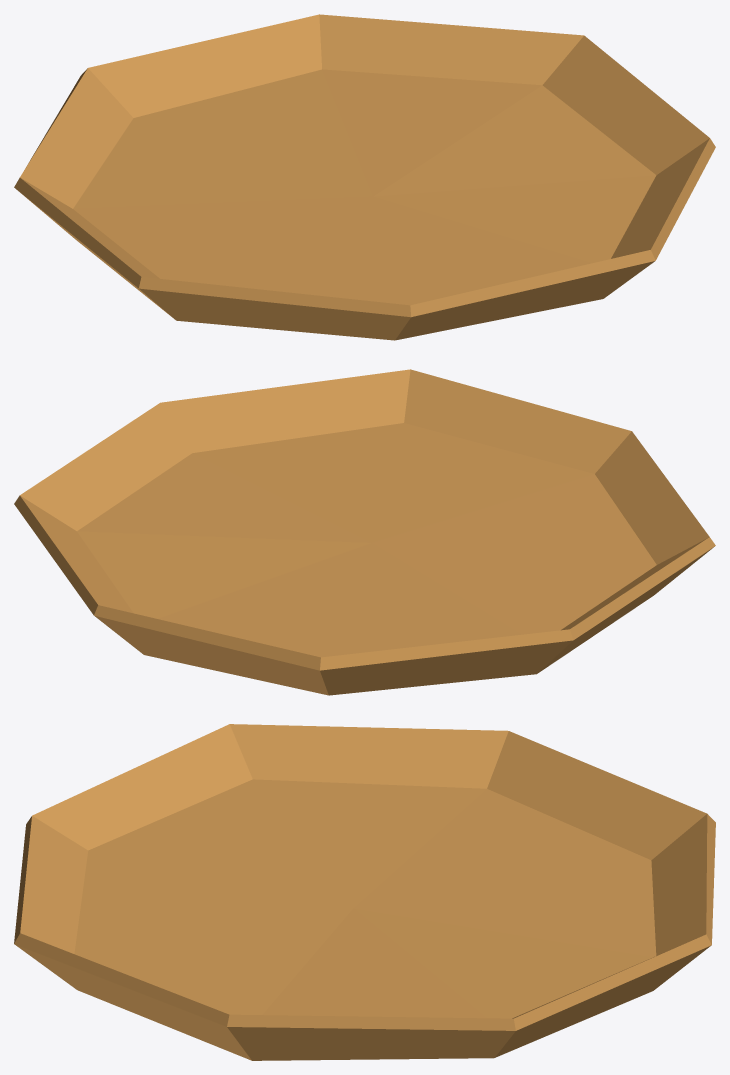
The model's file is SM_Prop_Gold_Plate_04.glb.
3 renders of one model, top to bottom at view 1: azimuth 30°, elevation 25°; view 2: azimuth 150°, elevation 25°; view 3: azimuth 270°, elevation 25°, orthographic. The views are drawn at different scales.
Parts seen in each view (by area): view 1: SM_Prop_Gold_Plate_04; view 2: SM_Prop_Gold_Plate_04; view 3: SM_Prop_Gold_Plate_04.
Boxes of the visible parts, <box> form: SM_Prop_Gold_Plate_04: <box>14,14,715,340</box>; SM_Prop_Gold_Plate_04: <box>14,369,715,695</box>; SM_Prop_Gold_Plate_04: <box>14,724,715,1060</box>.
Bounding box in the file's own units: 0.8618 × 0.0963 × 0.8503.
Materials: 1 (1 with a texture image).
